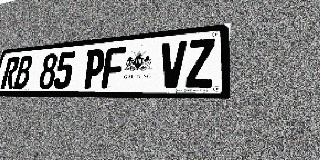5: (53, 51, 76, 89)
8: (37, 53, 60, 89)
B: (13, 55, 34, 89)
F: (101, 46, 126, 88)
P: (82, 48, 106, 89)
R: (0, 56, 20, 89)
V: (159, 41, 187, 88)
Z: (185, 38, 215, 88)
